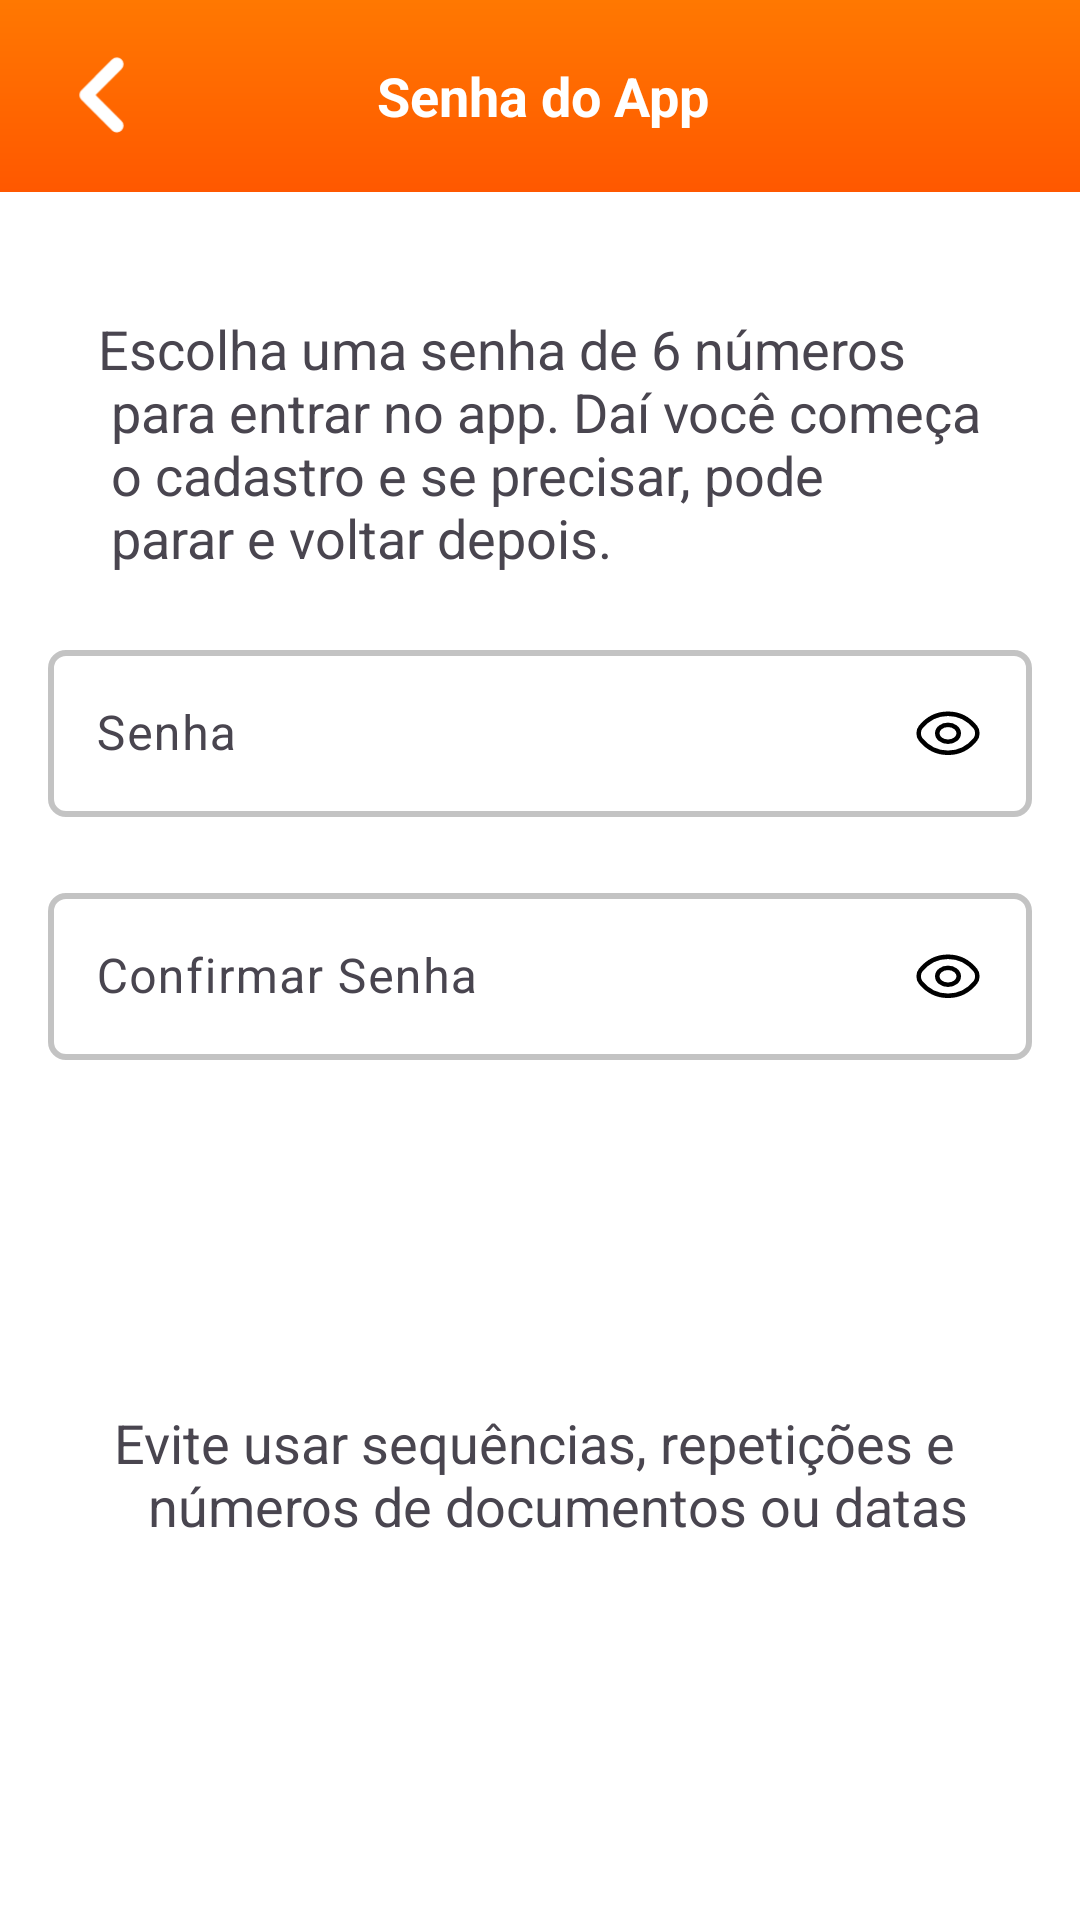

Where to tap for icons on this 1080px×1920px app screen, as point (x, y):
back: point (102, 109)
